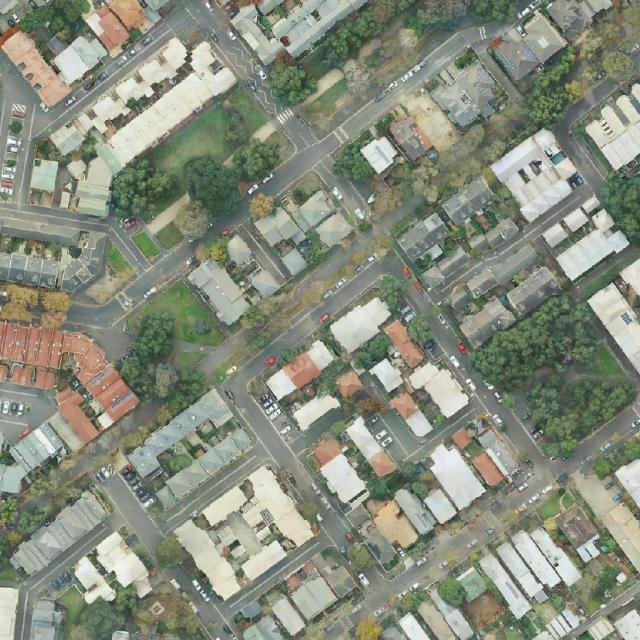building: (48, 36, 200, 168), (93, 54, 239, 174), (229, 546, 361, 640), (122, 387, 234, 479), (5, 488, 110, 583), (488, 125, 587, 224), (41, 0, 156, 85), (0, 228, 119, 307), (152, 426, 255, 510), (420, 46, 511, 138), (539, 194, 631, 283), (482, 2, 569, 87), (352, 103, 435, 184), (243, 463, 317, 551), (172, 515, 245, 603), (508, 517, 583, 599), (279, 175, 354, 256), (0, 27, 73, 110), (252, 202, 324, 281), (580, 81, 640, 173), (305, 433, 373, 514), (454, 414, 522, 492), (90, 531, 160, 604), (186, 254, 254, 329), (586, 281, 640, 373), (264, 338, 337, 405), (421, 439, 488, 512), (406, 354, 476, 422), (327, 290, 398, 357), (465, 243, 542, 300), (477, 550, 534, 621), (494, 540, 550, 607), (552, 501, 610, 565), (343, 415, 398, 481), (455, 294, 518, 351), (50, 383, 107, 445), (440, 173, 500, 231), (503, 264, 562, 319), (394, 209, 454, 263), (63, 556, 118, 614), (424, 585, 477, 640), (370, 499, 422, 555), (544, 0, 615, 41), (600, 501, 640, 573), (387, 388, 437, 441), (73, 154, 114, 218), (418, 245, 472, 292), (466, 215, 522, 259), (106, 0, 164, 40), (200, 484, 250, 530), (289, 387, 338, 433), (222, 508, 266, 558), (360, 526, 404, 574), (415, 597, 459, 640), (46, 411, 85, 455), (26, 157, 59, 208), (237, 497, 276, 536), (420, 486, 458, 526), (221, 233, 258, 272), (245, 263, 282, 302), (580, 195, 616, 235), (207, 520, 243, 560), (370, 357, 407, 395), (453, 566, 490, 603), (183, 39, 219, 74), (545, 607, 583, 640), (616, 459, 640, 507), (393, 336, 427, 369), (0, 587, 19, 640), (333, 369, 365, 400), (384, 319, 413, 351), (445, 284, 474, 313), (615, 610, 640, 640), (66, 155, 92, 182), (586, 616, 615, 640), (518, 572, 544, 598), (450, 426, 474, 451), (58, 181, 74, 210), (250, 296, 259, 305)
greenland: (510, 337, 639, 464), (460, 288, 605, 395), (102, 303, 222, 428), (403, 107, 524, 212), (178, 132, 291, 223), (149, 101, 249, 197), (0, 458, 86, 554), (147, 279, 229, 364), (99, 151, 177, 231), (311, 1, 388, 75), (14, 0, 98, 54), (60, 586, 141, 640), (409, 0, 526, 34), (0, 281, 73, 332), (258, 52, 319, 113), (5, 524, 67, 583), (350, 172, 402, 225), (370, 462, 435, 500), (169, 196, 218, 246), (349, 329, 397, 374), (333, 129, 374, 181), (587, 561, 626, 601), (150, 533, 190, 572), (434, 573, 471, 611), (590, 530, 628, 566), (403, 311, 438, 349), (378, 275, 408, 316), (374, 0, 416, 24), (502, 615, 539, 640), (394, 587, 422, 616), (408, 581, 429, 604)
metalled_road: (314, 275, 575, 552), (202, 215, 409, 495), (327, 20, 524, 140), (20, 14, 179, 141), (429, 195, 581, 304), (265, 116, 382, 216), (151, 446, 269, 537), (224, 529, 333, 619), (486, 182, 595, 268), (269, 227, 375, 312), (59, 282, 146, 365), (114, 234, 200, 315), (549, 95, 609, 195), (0, 54, 40, 202), (98, 473, 167, 554), (288, 506, 359, 581), (0, 208, 109, 251), (569, 238, 640, 303), (233, 218, 293, 289), (195, 328, 252, 378), (105, 221, 153, 277), (370, 191, 428, 237), (203, 196, 256, 245), (156, 0, 205, 50), (585, 74, 619, 106), (360, 372, 389, 401), (172, 339, 217, 357), (332, 126, 351, 144)
unmetalled_road: (144, 192, 196, 236), (299, 65, 346, 106), (251, 120, 277, 145), (222, 155, 238, 170)
